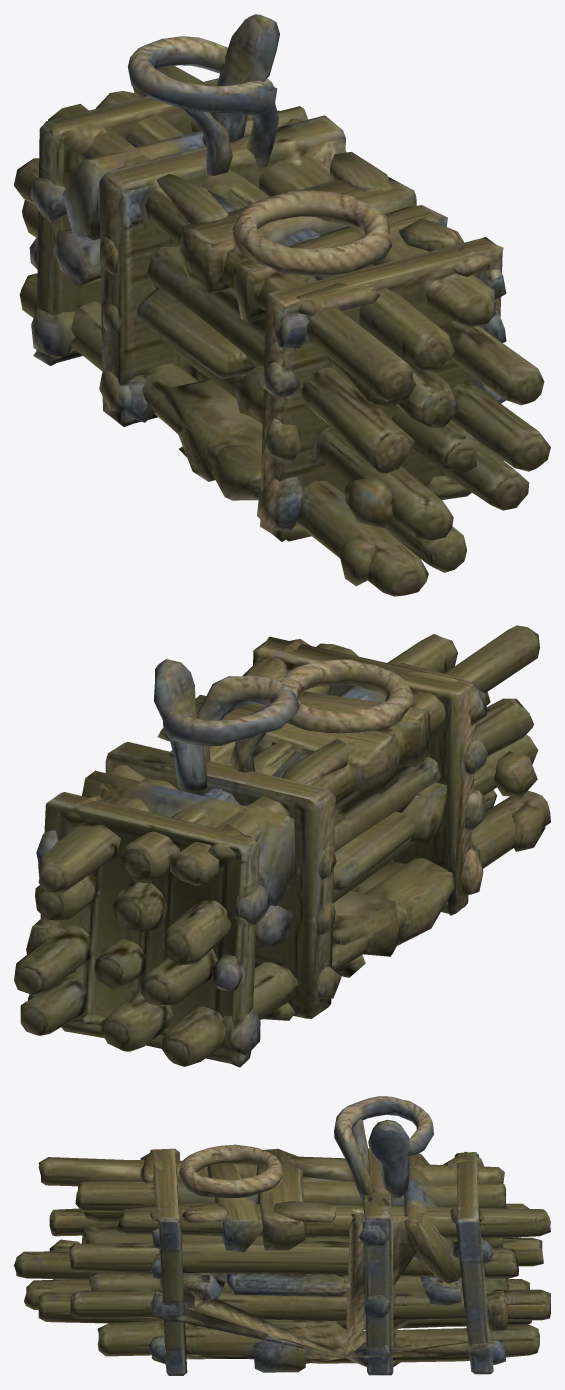
Rendered from av_estrado.glb.
3 views of the same model, one above another, from view 1: azimuth 30°, elevation 25°; view 2: azimuth 150°, elevation 25°; view 3: azimuth 270°, elevation 25° (orthographic). The views are drawn at different scales.
Visible parts, largest first — view 1: Mesh_0.007; view 2: Mesh_0.007; view 3: Mesh_0.007.
Part boxes in pixels (x1,y1,x2,y2): Mesh_0.007: [14, 14, 550, 596]; Mesh_0.007: [14, 625, 550, 1067]; Mesh_0.007: [14, 1096, 550, 1375].
Bounding box in the file's own units: 0.1406 × 0.208 × 0.4268.
Materials: 1 (1 with a texture image).
